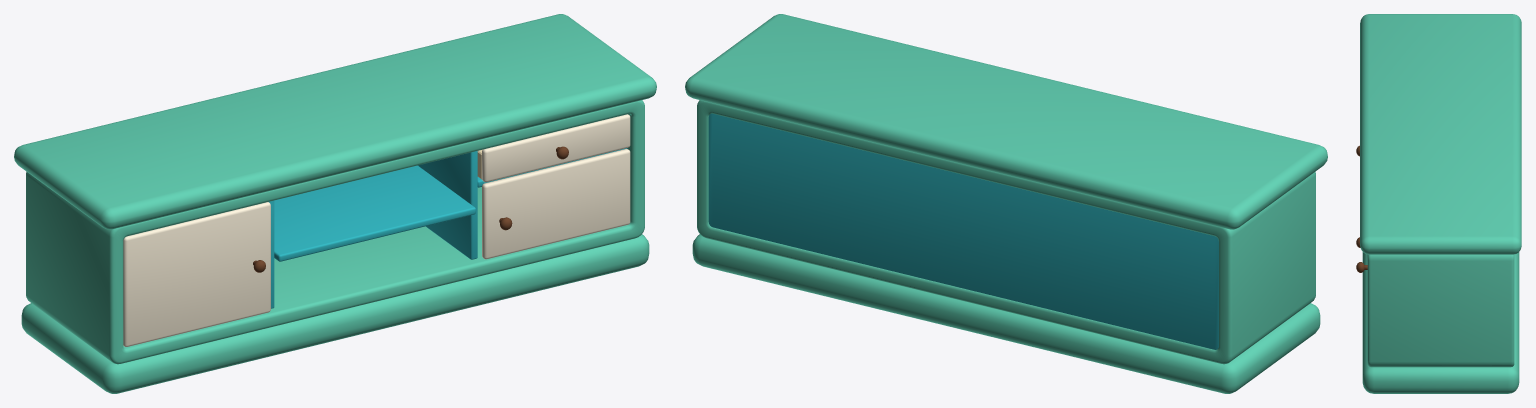
File: rack_longo_rodape_verde_agua.glb
3 views of the same model, side by side, from view 1: azimuth 30°, elevation 25°; view 2: azimuth 150°, elevation 25°; view 3: azimuth 270°, elevation 25° (orthographic). The views are drawn at different scales.
Visible parts, largest first — view 1: rack_longo_rodape_verde_agua, porta_1, porta_2, gaveta_1; view 2: rack_longo_rodape_verde_agua; view 3: rack_longo_rodape_verde_agua.
Part boxes in pixels (x1=…): rack_longo_rodape_verde_agua: x1=14, y1=14, x2=656, y2=393; porta_1: x1=123, y1=202, x2=270, y2=346; porta_2: x1=482, y1=149, x2=630, y2=259; gaveta_1: x1=477, y1=114, x2=630, y2=182; rack_longo_rodape_verde_agua: x1=685, y1=14, x2=1327, y2=393; rack_longo_rodape_verde_agua: x1=1360, y1=14, x2=1521, y2=393.
Size of the model in its own units: 1.66 by 0.54 by 0.5071.
Materials: 1 (1 with a texture image).
